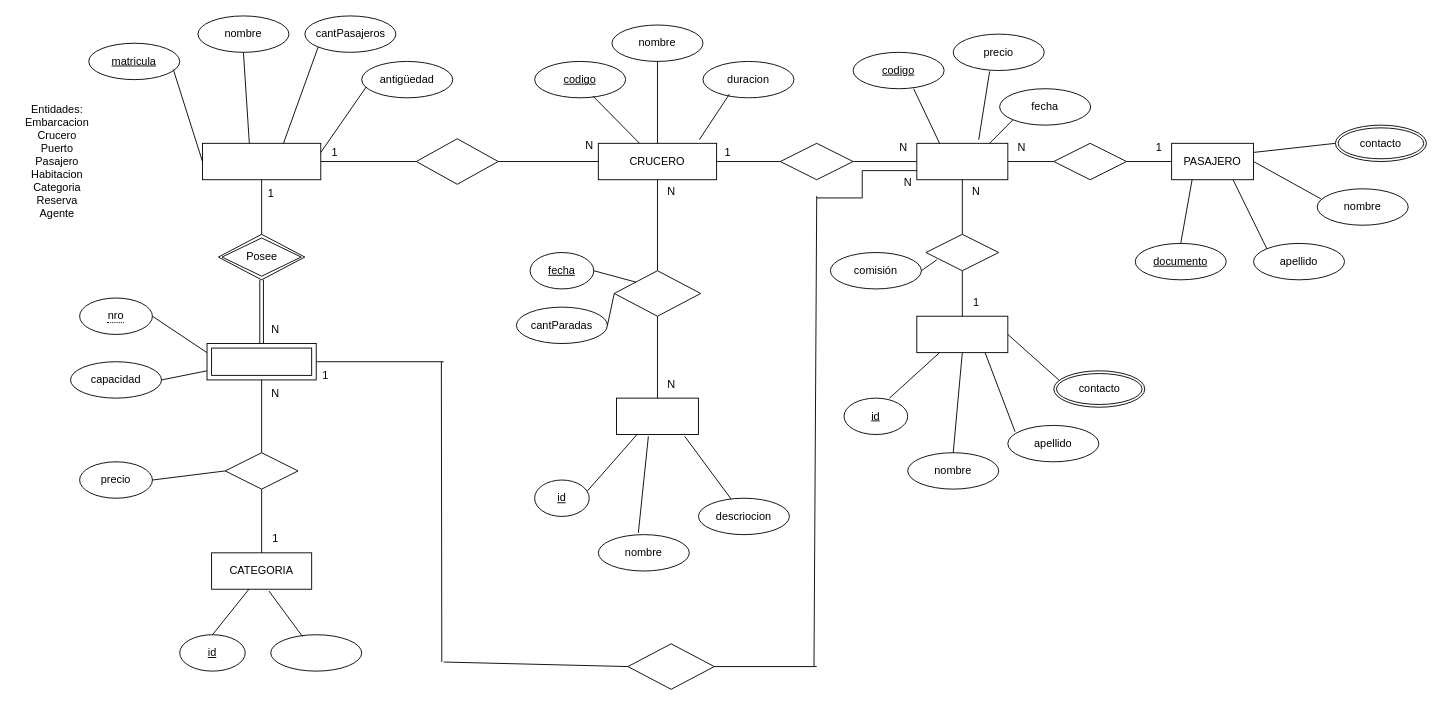
Image size: 1442x705. Some labels were removed from this diagram. The shapes that lost their labels are listed below. From the top down, each one's centre as x and y in pixels, then its label:
the point at 261,161: EMBARCACIÓN
the point at 456,161: Asignada en
the point at 816,161: Forma parte de
the point at 962,161: RESERVA
the point at 1090,161: Hecha por
the point at 962,252: Vendida por
the point at 657,293: Parada en
the point at 962,334: AGENTE
the point at 261,361: HABITACION
the point at 657,416: PUERTO
the point at 261,470: se encuentra en
the point at 316,652: descripcion
the point at 670,666: Incluida en
